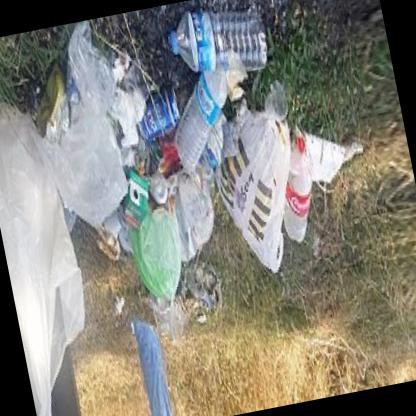Garbage: (15, 3, 230, 312), (0, 87, 119, 415), (196, 81, 291, 272), (236, 101, 360, 221), (239, 82, 312, 245), (161, 0, 268, 86)
